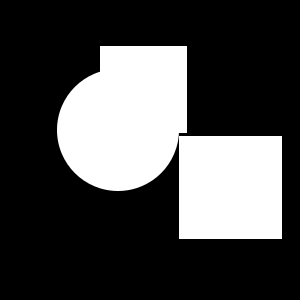circle: (179, 136, 282, 239), (100, 46, 187, 133)
rectangle: (57, 69, 179, 191)
